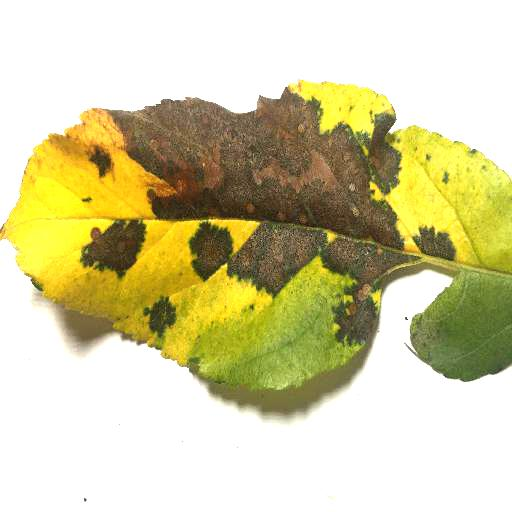Brown_Spot: (82, 91, 416, 217), (230, 220, 321, 289), (325, 237, 412, 274), (375, 222, 463, 257), (82, 226, 140, 266), (189, 220, 229, 278), (338, 292, 370, 332), (145, 299, 175, 330)
